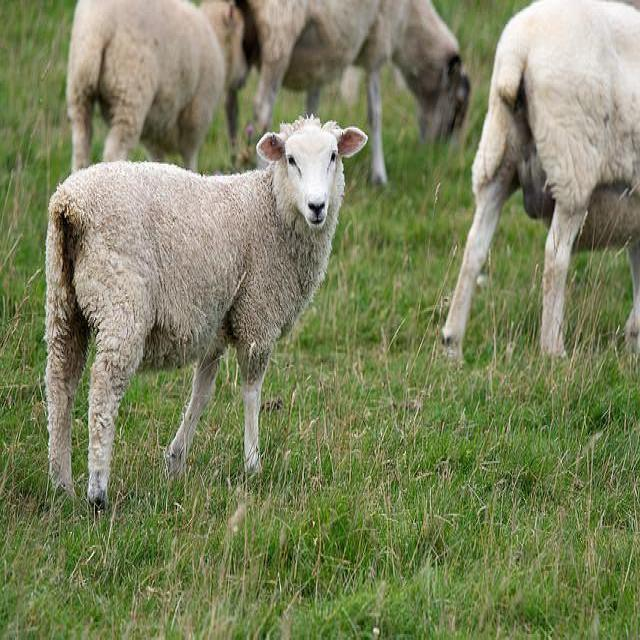Sheep: (44, 114, 370, 512), (441, 0, 639, 367), (230, 1, 468, 194), (63, 3, 249, 173)
